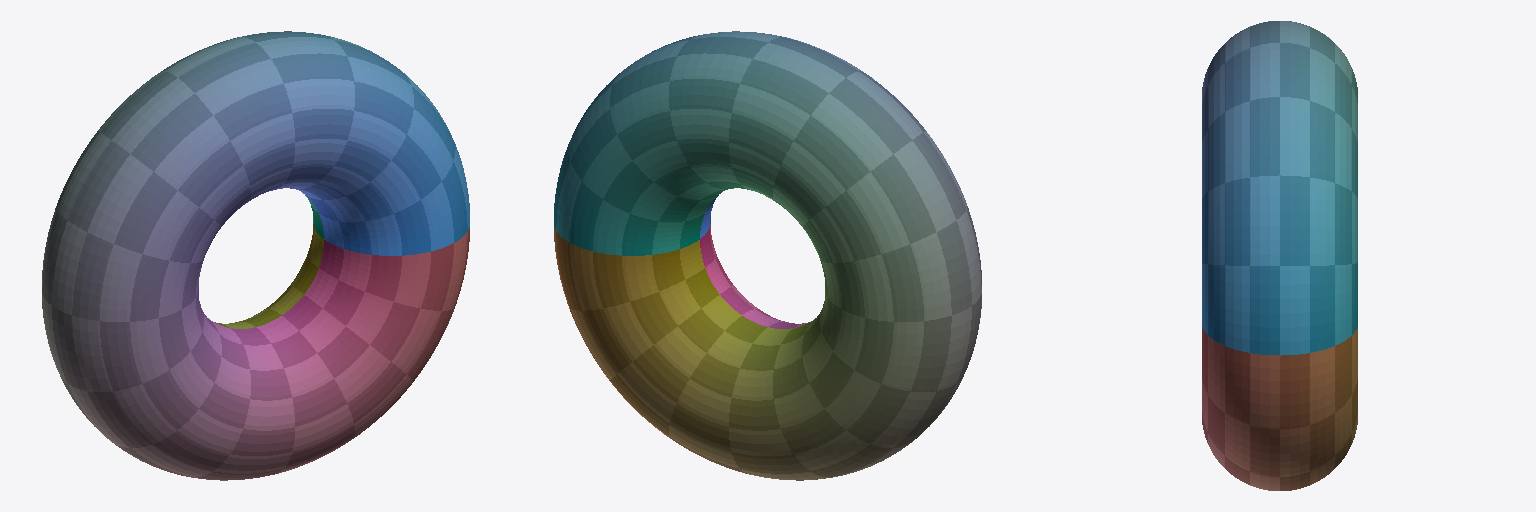
3 views of the same model, side by side, from view 1: azimuth 30°, elevation 25°; view 2: azimuth 150°, elevation 25°; view 3: azimuth 270°, elevation 25° (orthographic).
Parts seen in each view (by area): view 1: Torus; view 2: Torus; view 3: Torus.
Boxes of the visible parts, box(x1,y1,x2,y2) form: Torus: box(42, 31, 469, 480); Torus: box(554, 31, 981, 480); Torus: box(1202, 21, 1357, 490).
Size of the model in its own units: 3 by 3 by 0.998.
1 materials, 1 textured.